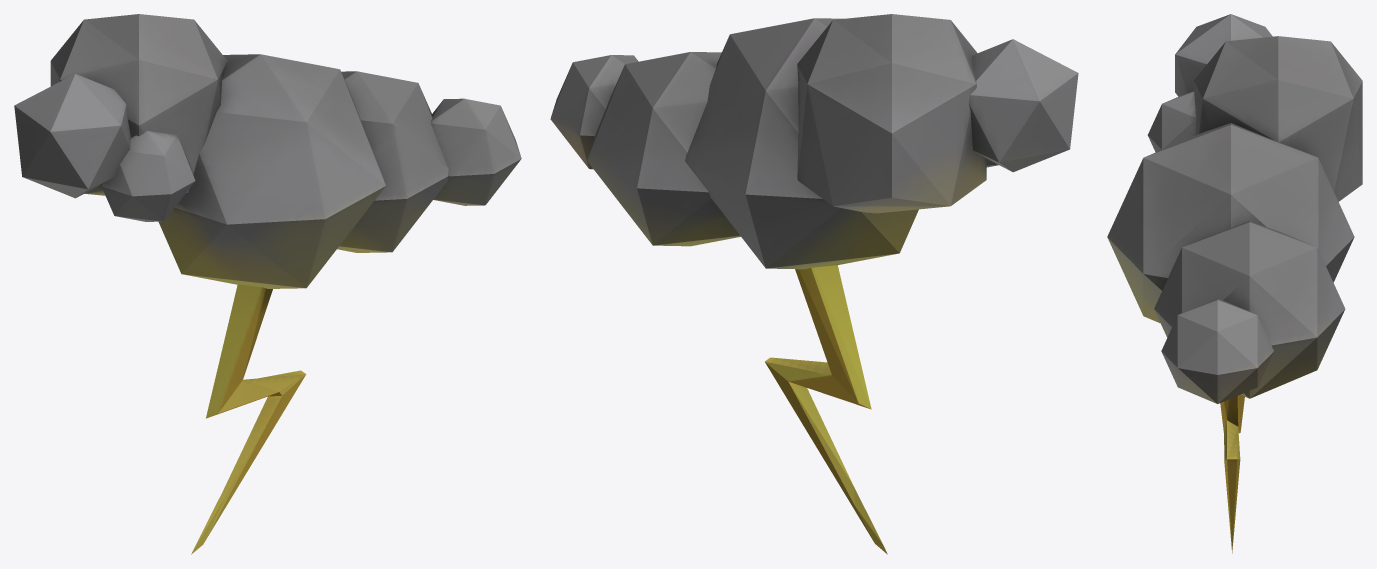
Rendered from Cloud_7.fbx.
3 views of the same model, side by side, from view 1: azimuth 30°, elevation 25°; view 2: azimuth 150°, elevation 25°; view 3: azimuth 270°, elevation 25° (orthographic). The views are drawn at different scales.
Visible parts, largest first — view 1: Cloud_7; view 2: Cloud_7; view 3: Cloud_7.
Boxes of the visible parts, bbox=[...] form: Cloud_7: bbox=[14, 14, 521, 554]; Cloud_7: bbox=[550, 14, 1078, 554]; Cloud_7: bbox=[1107, 14, 1362, 553].
Size of the model in its own units: 85.05 by 88.51 by 40.52.
